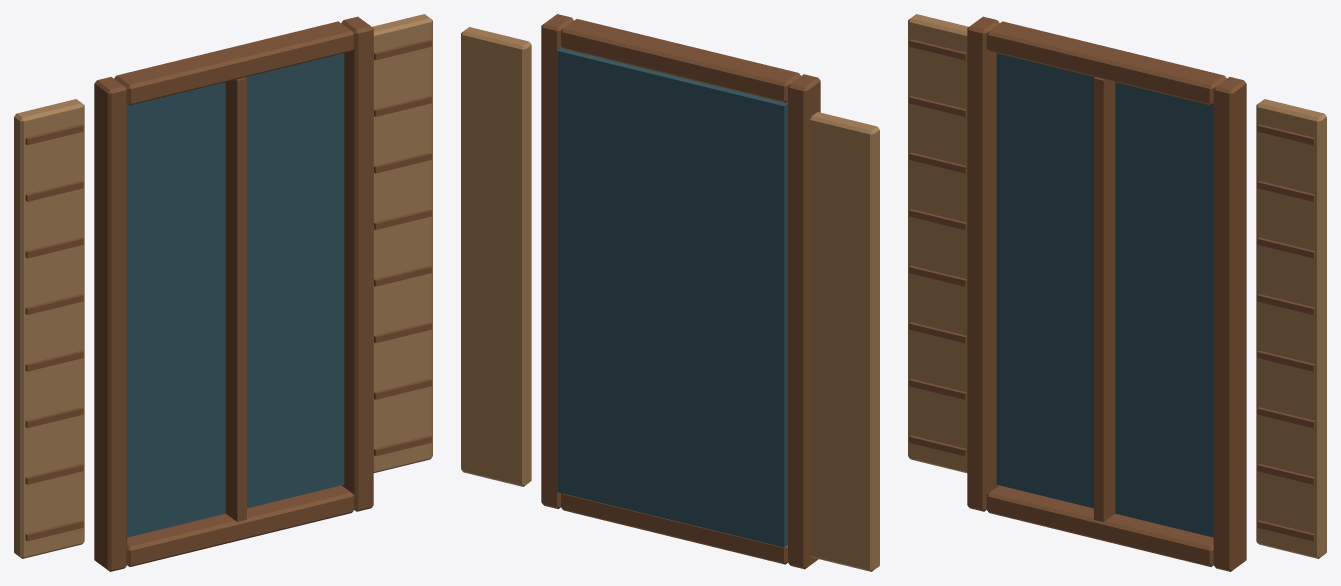
Rendered from window_09.glb.
The picture shows the model from 3 angles, left to right: view 1: azimuth 30°, elevation 25°; view 2: azimuth 150°, elevation 25°; view 3: azimuth 330°, elevation 25°; orthographic projection.
Visible parts, largest first — view 1: window_09; view 2: window_09; view 3: window_09.
Part boxes in pixels (x1,y1,x2,y2): window_09: (14,14,432,571); window_09: (461,14,879,571); window_09: (908,14,1326,571).
Bounding box in the file's own units: 1.91 × 2.13 × 0.185.
